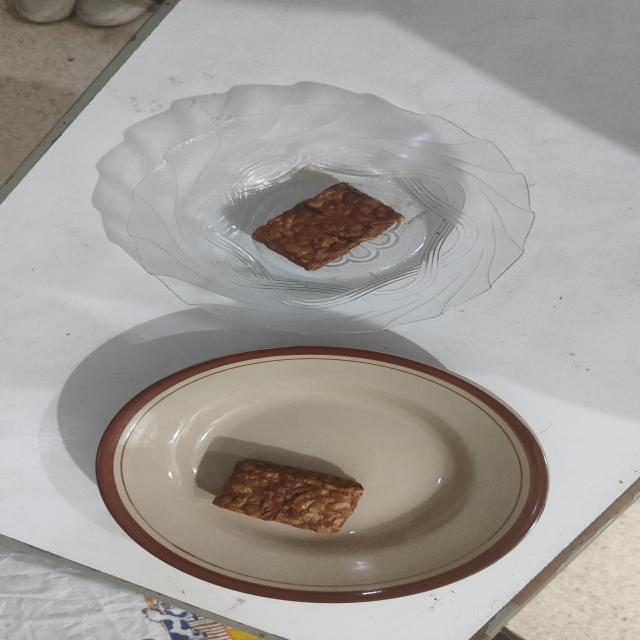tempe_goreng: (252, 182, 403, 270), (214, 461, 364, 534)
